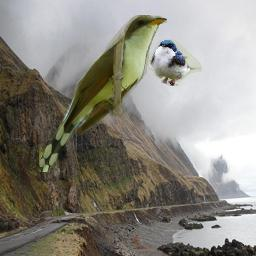Cuckoo: (39, 15, 167, 172)
Swallow: (148, 39, 202, 86)
